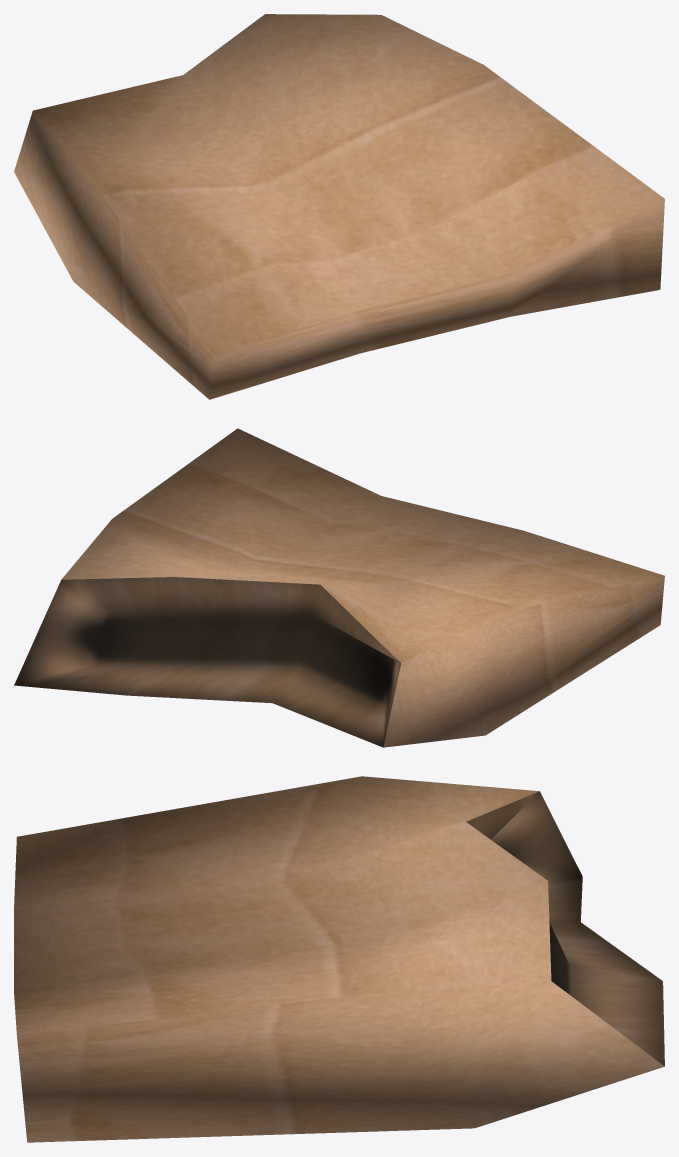
File: paper_bag_3.glb
3 views of the same model, one above another, from view 1: azimuth 30°, elevation 25°; view 2: azimuth 150°, elevation 25°; view 3: azimuth 270°, elevation 25° (orthographic). The views are drawn at different scales.
Visible parts, largest first — view 1: Paper_Bag_3; view 2: Paper_Bag_3; view 3: Paper_Bag_3.
Part boxes in pixels (x1=…): Paper_Bag_3: x1=14, y1=14, x2=664, y2=399; Paper_Bag_3: x1=14, y1=428, x2=664, y2=747; Paper_Bag_3: x1=14, y1=776, x2=664, y2=1142.
Size of the model in its own units: 0.4804 by 0.1567 by 0.5278.
Materials: 1 (1 with a texture image).
